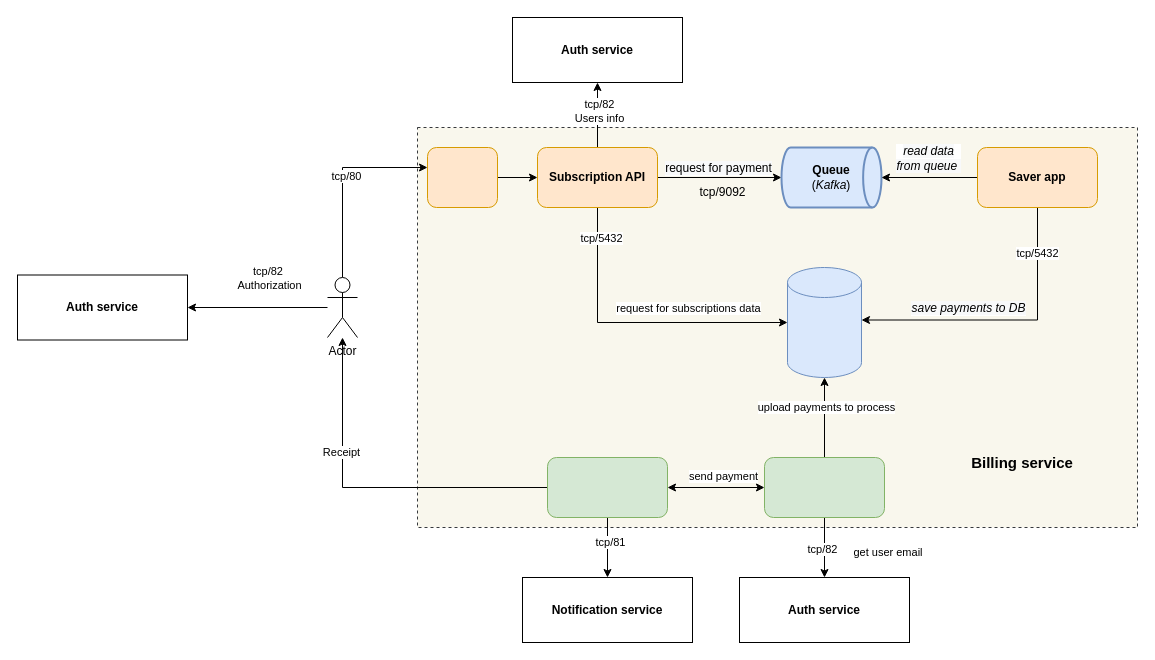
Image size: 1155x660. Some labels were removed from this diagram. Here are the shapes that lost their labels. From the top down, the centre of each, then its label:
At (x=462, y=177): "Nginx".
At (x=824, y=322): "DB ( PostgreSQL )".
At (x=607, y=487): "Processing ( Stripe )".
At (x=824, y=487): "Processor".
